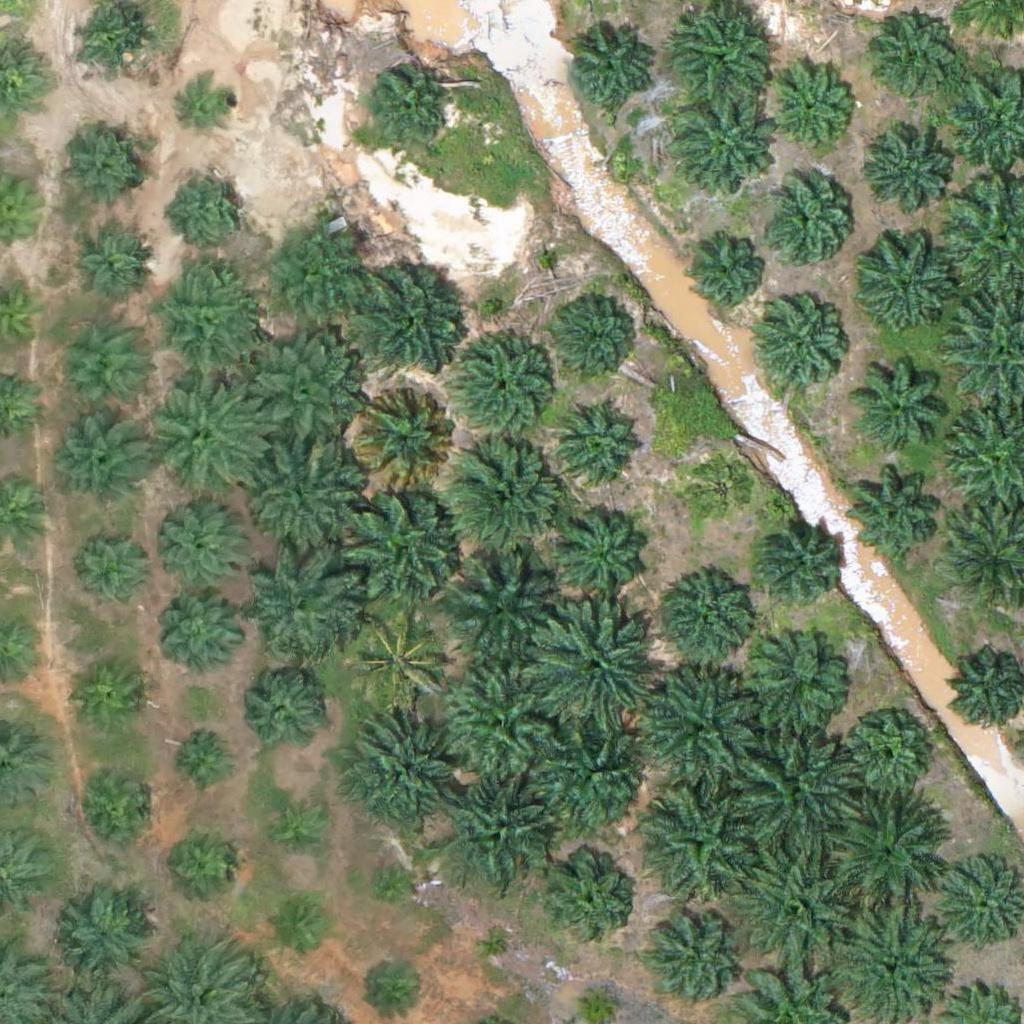Kelapa_Sawit: (143, 368, 268, 494), (346, 253, 471, 379), (340, 487, 465, 613), (243, 434, 368, 560), (240, 540, 365, 666), (442, 429, 567, 555), (438, 660, 563, 786), (345, 707, 470, 833), (526, 603, 651, 729), (535, 722, 660, 848), (631, 667, 756, 793), (633, 782, 758, 908), (732, 725, 857, 851), (733, 842, 858, 968), (828, 782, 953, 908), (431, 766, 556, 892), (235, 333, 360, 458), (441, 545, 566, 670), (341, 601, 454, 715), (348, 382, 461, 495), (738, 635, 851, 748), (260, 216, 372, 330), (449, 332, 561, 446), (150, 268, 262, 381), (49, 890, 149, 991), (157, 493, 257, 594), (848, 352, 948, 453), (847, 459, 947, 560), (675, 95, 775, 196), (671, 2, 771, 103), (550, 497, 650, 598), (653, 572, 753, 673), (539, 849, 639, 950), (49, 324, 149, 424), (853, 233, 953, 333), (645, 908, 745, 1008), (63, 129, 151, 217), (843, 710, 931, 798), (155, 587, 243, 675), (874, 12, 962, 100), (767, 67, 855, 155), (764, 180, 852, 268), (756, 303, 844, 391), (566, 27, 654, 115), (755, 514, 842, 603), (67, 226, 154, 314), (365, 68, 452, 156), (684, 227, 771, 315), (58, 414, 145, 502), (868, 131, 955, 219), (235, 667, 322, 755), (558, 397, 645, 485), (553, 292, 640, 380), (71, 4, 146, 80), (173, 167, 248, 243), (74, 771, 149, 847), (684, 450, 759, 526), (71, 655, 146, 730), (80, 535, 155, 610), (162, 829, 237, 904), (265, 802, 328, 865), (178, 76, 240, 139), (172, 725, 234, 788), (270, 898, 333, 960), (364, 858, 414, 908), (478, 920, 515, 958)
